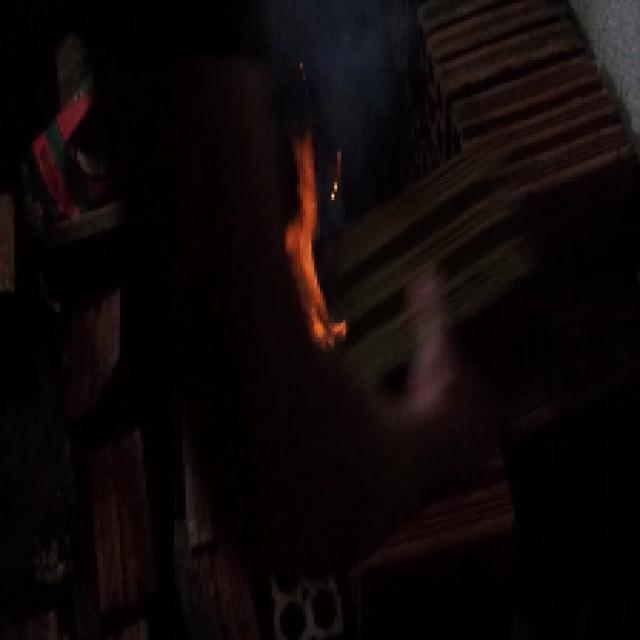fire: (281, 152, 346, 352)
